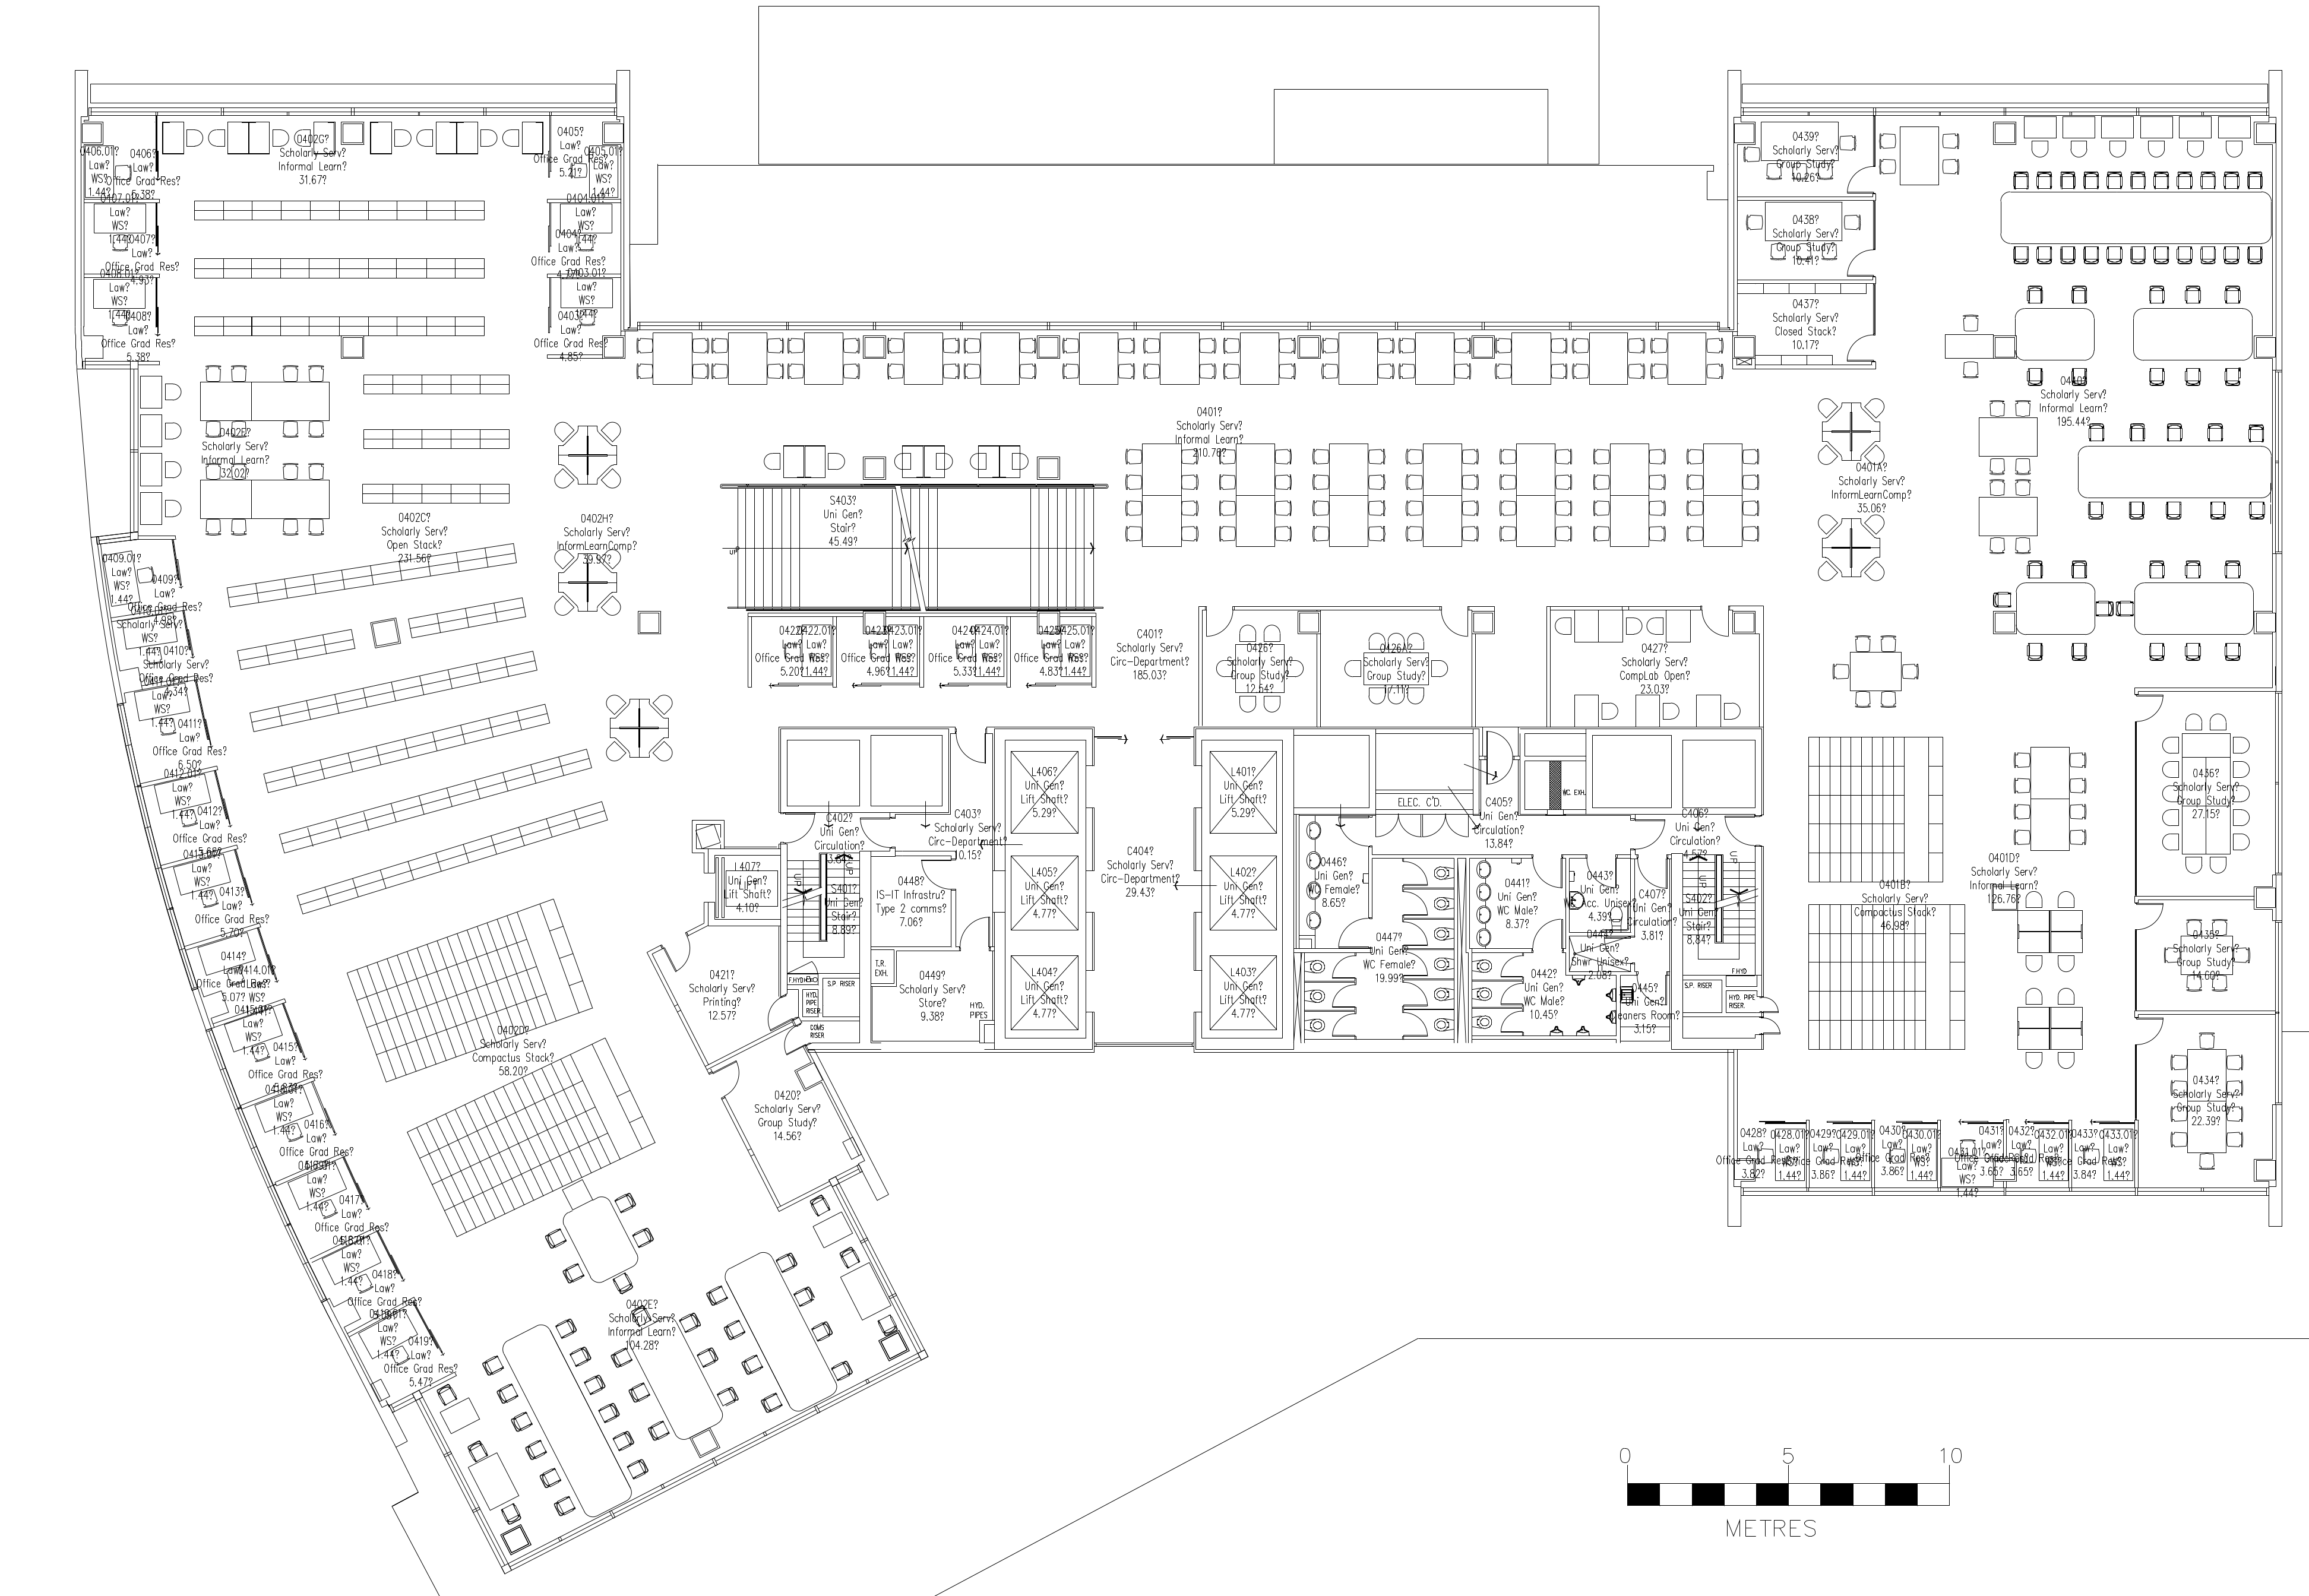room: (1932, 272, 2279, 558), (625, 321, 1734, 400), (1965, 730, 2116, 1082), (707, 1015, 879, 1214), (158, 116, 547, 195), (2135, 688, 2277, 901), (193, 358, 333, 551), (1546, 605, 1763, 728), (2134, 1012, 2277, 1193), (647, 919, 802, 1068), (537, 407, 644, 621), (1318, 607, 1470, 730), (1369, 856, 1458, 1045), (2135, 896, 2279, 1012), (1293, 947, 1458, 1045), (1198, 607, 1321, 730), (1469, 949, 1621, 1044), (1370, 730, 1479, 854), (1734, 109, 1876, 200), (874, 945, 995, 1052), (309, 1224, 421, 1338), (347, 1296, 460, 1410), (205, 1000, 321, 1110), (275, 1151, 384, 1266), (1734, 196, 1876, 284), (1735, 281, 1876, 368), (239, 1079, 351, 1187), (121, 675, 225, 787), (182, 923, 286, 1030), (1295, 814, 1374, 952), (160, 845, 263, 951), (140, 766, 240, 870), (1616, 854, 1670, 1044), (1467, 856, 1565, 952), (81, 274, 179, 368), (91, 530, 189, 621), (872, 851, 961, 951), (111, 605, 200, 695), (84, 200, 181, 277), (1007, 614, 1098, 695), (546, 274, 625, 363), (921, 612, 1012, 689), (832, 614, 923, 689), (747, 612, 837, 688), (82, 114, 160, 200), (551, 116, 623, 203), (547, 198, 623, 279), (707, 849, 781, 926), (1567, 852, 1633, 937), (1734, 1121, 1809, 1194), (2069, 1119, 2139, 1194), (2005, 1119, 2072, 1196), (1941, 1119, 2005, 1196), (1809, 1121, 1874, 1196), (1876, 1122, 1941, 1194), (1567, 933, 1639, 977)
